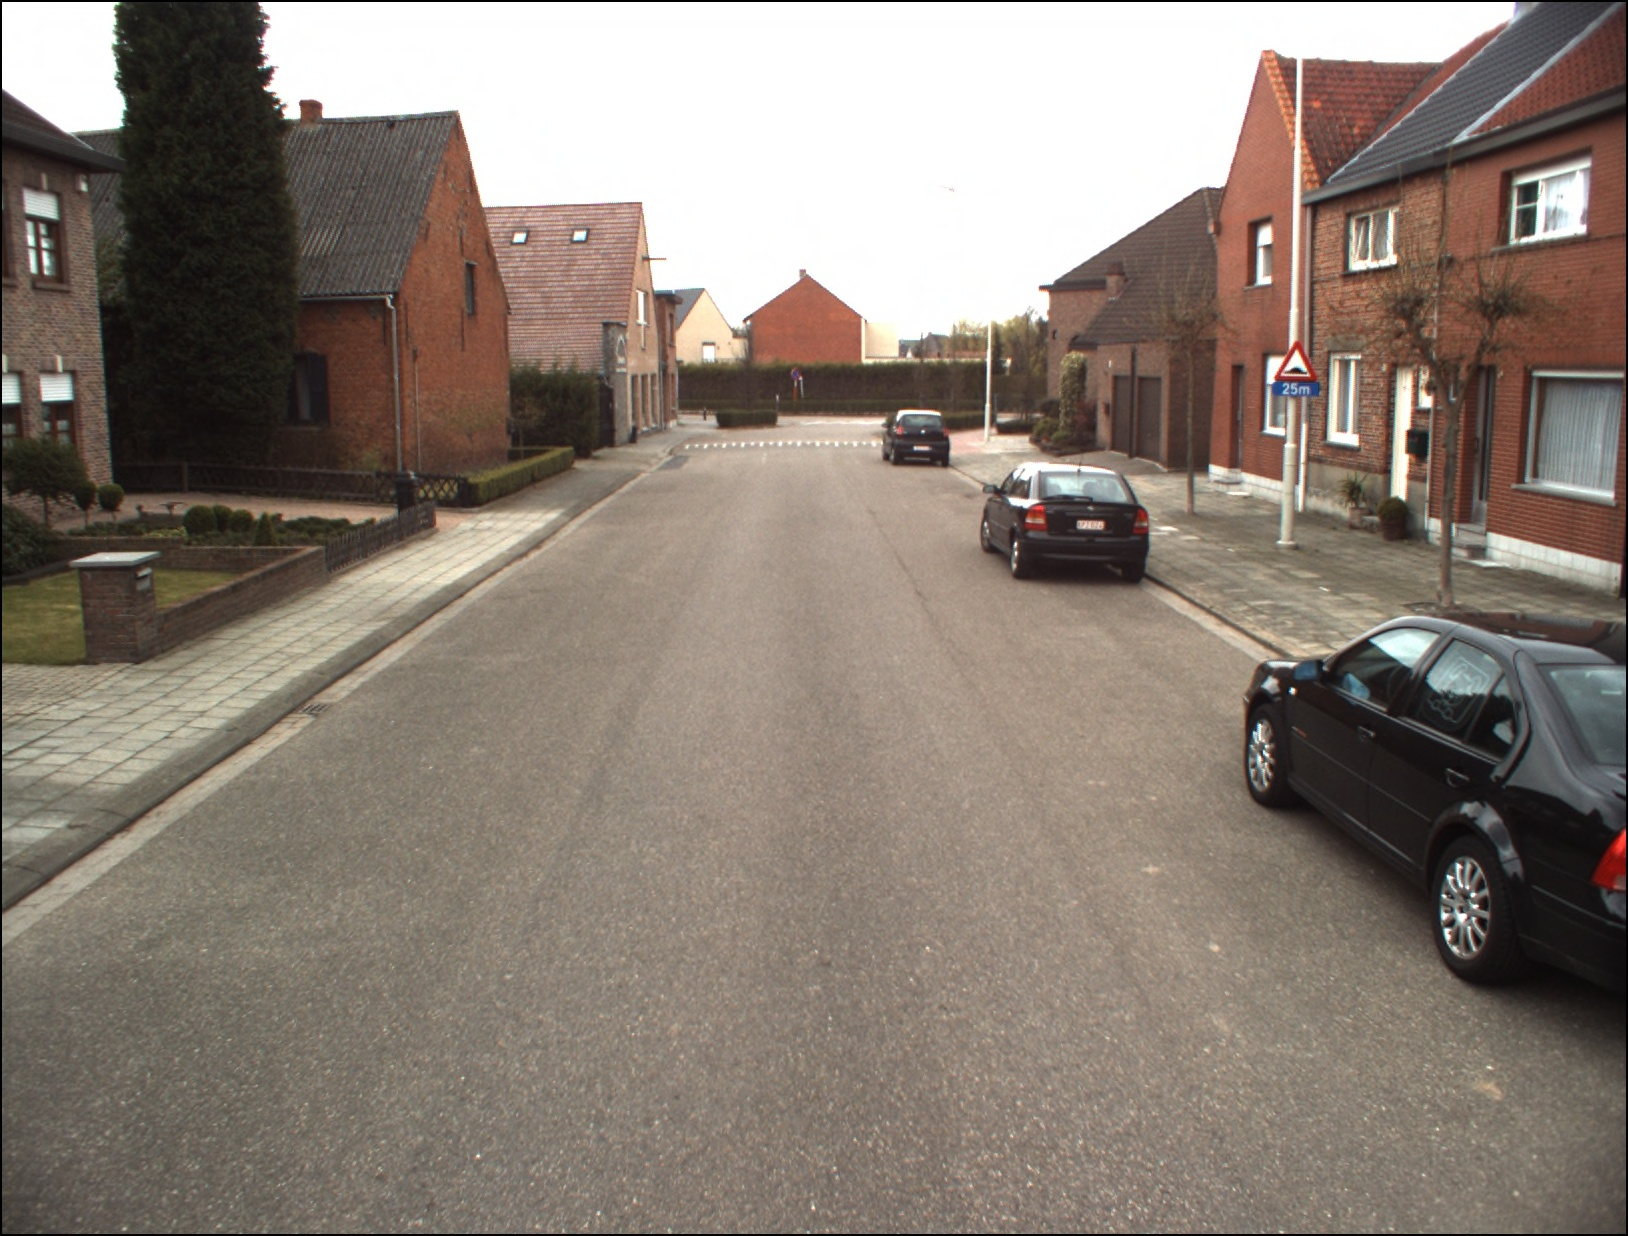speedbump: (1268, 341, 1318, 383)
